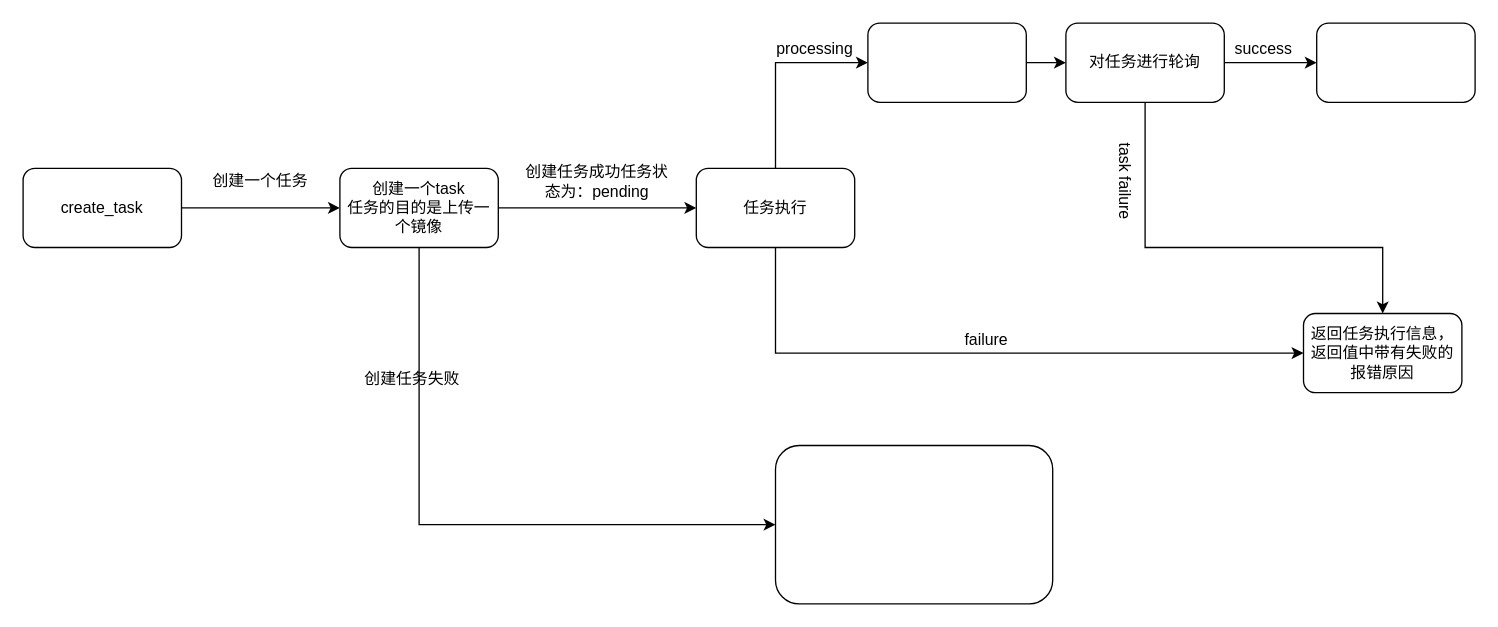
Image size: 1498x627. Some labels were removed from this diagram. Here are the shapes that lost their labels. From the top down, the centre of each, then its label:
[946,62]: 返回任务信息，返回值带有任务ID
[1395,62]: 返回任务执行信息，返回值中带有上传镜像成功后的镜像ID
[913,524]: 返回对应错误码或者异常信息： 1、上传镜像并发数达到上限； 2、磁盘容量不足等
